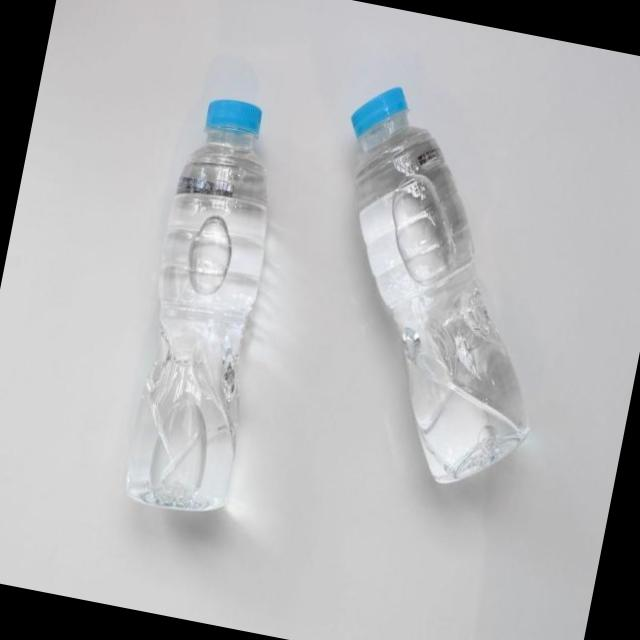plastic_bottle: (284, 78, 588, 498), (113, 91, 303, 522)
